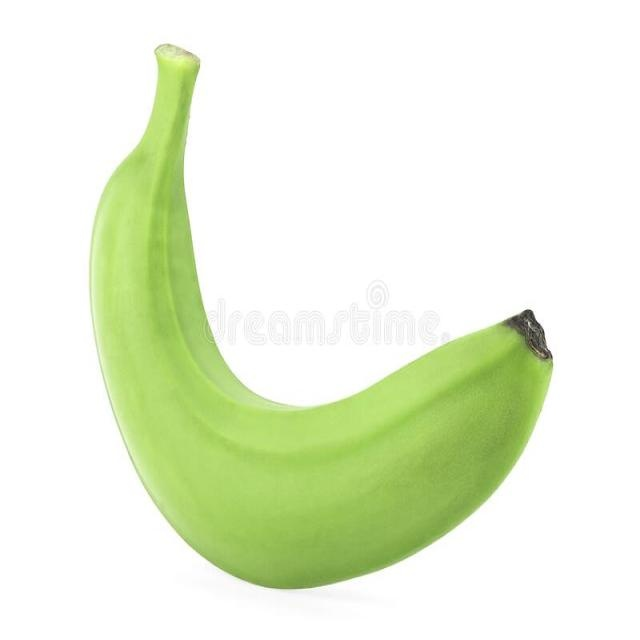agrume: (82, 31, 559, 591)
